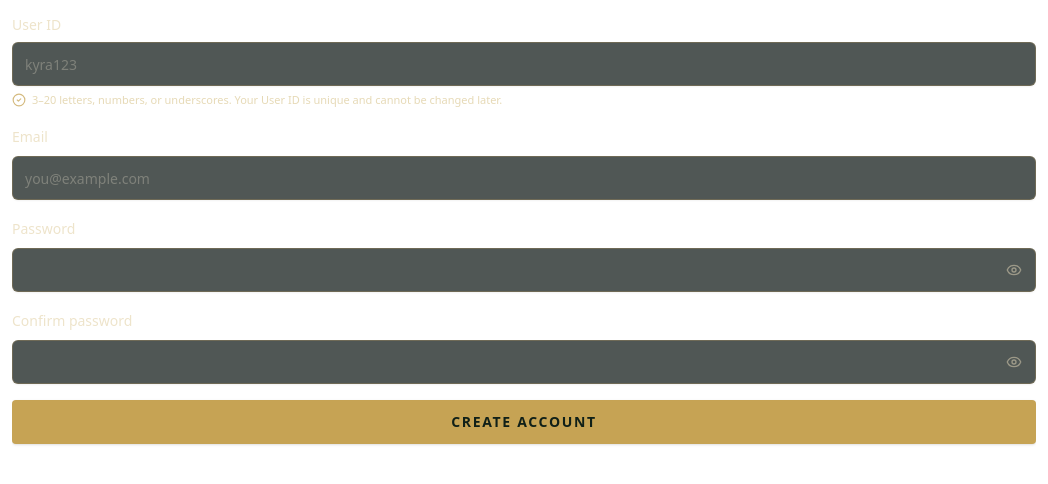
Test case: SignUpForm › shows the email-verification success state when no session is returned
This screenshot has width=1048, height=484.
Type "Admin_User" into the field labelled "User ID".
click(524, 64); type("Admin_User")  # box [12, 42, 1036, 86]
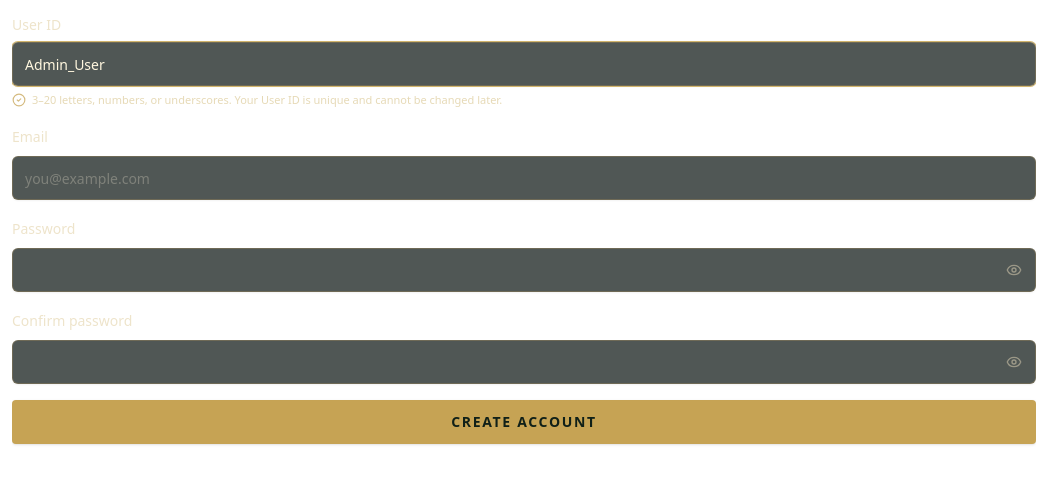
Type "Player@Example.com" into the field labelled "Email".
click(524, 178); type("Player@Example.com")  # box [12, 156, 1036, 200]
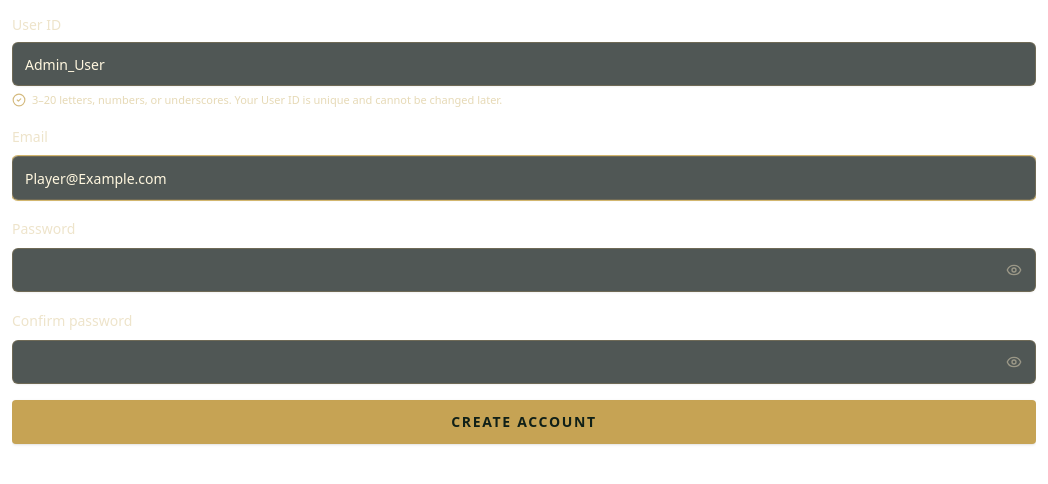
Type "password-123" into the password field labelled "Password".
click(524, 270); type("password-123")  # box [12, 248, 1036, 292]
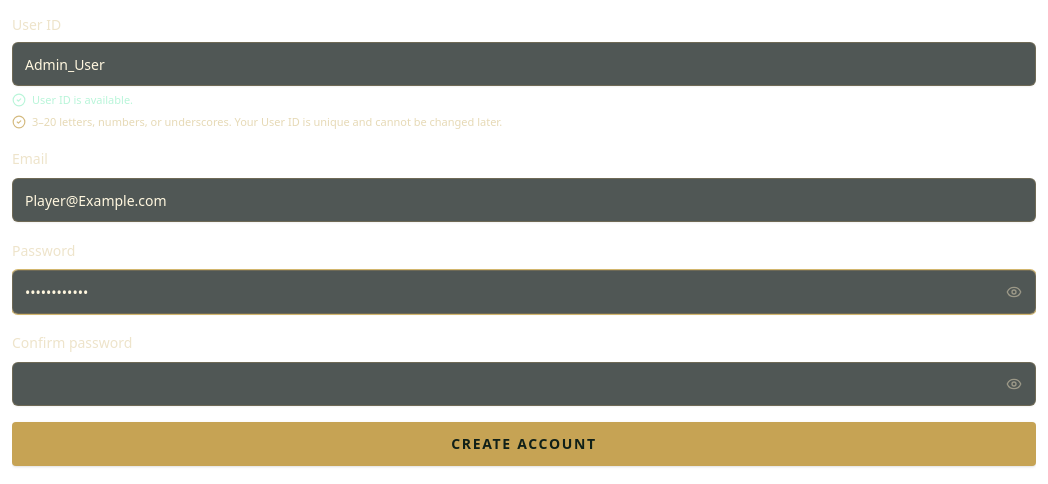
Type "password-123" into the password field labelled "Confirm password".
click(524, 384); type("password-123")  # box [12, 362, 1036, 406]
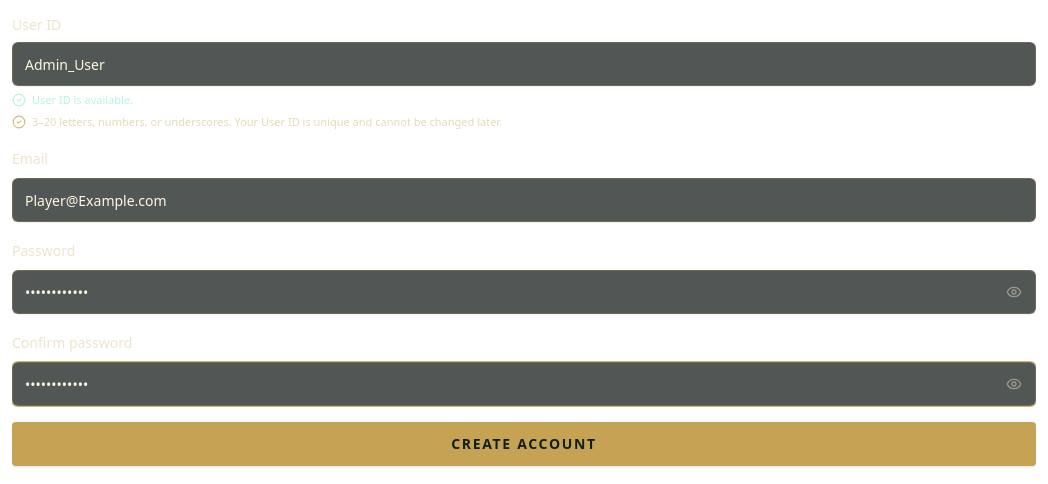
Click the button "CREATE ACCOUNT".
click(524, 444)  # box [12, 422, 1036, 466]
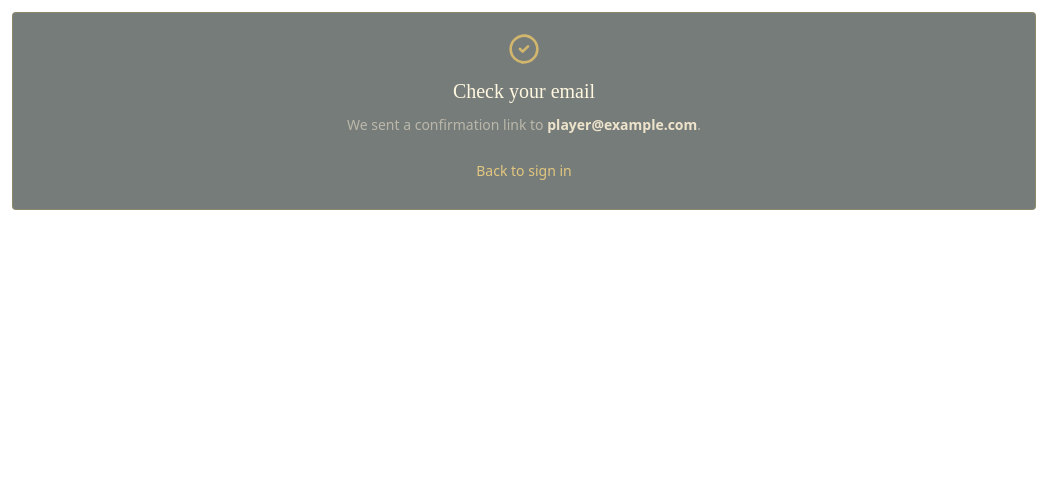
Expected: the message shows "Check your email", [453, 80, 595, 102]
Expected: the message shows "player@example.com", [547, 115, 697, 134]
